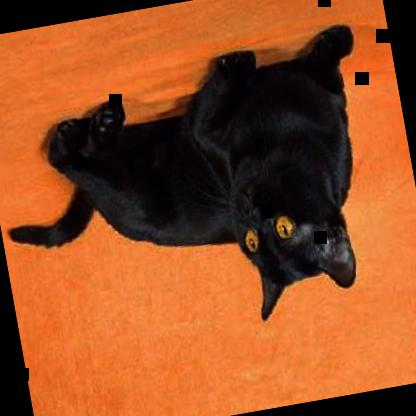cat: (0, 23, 398, 364)
